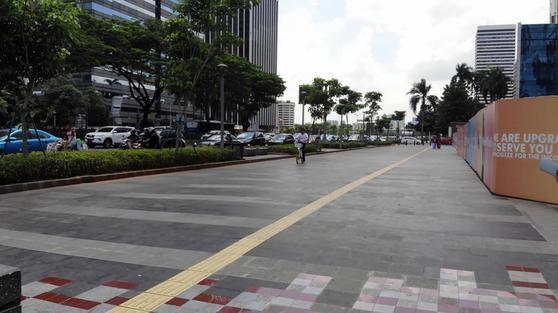bike: (290, 135, 309, 170)
